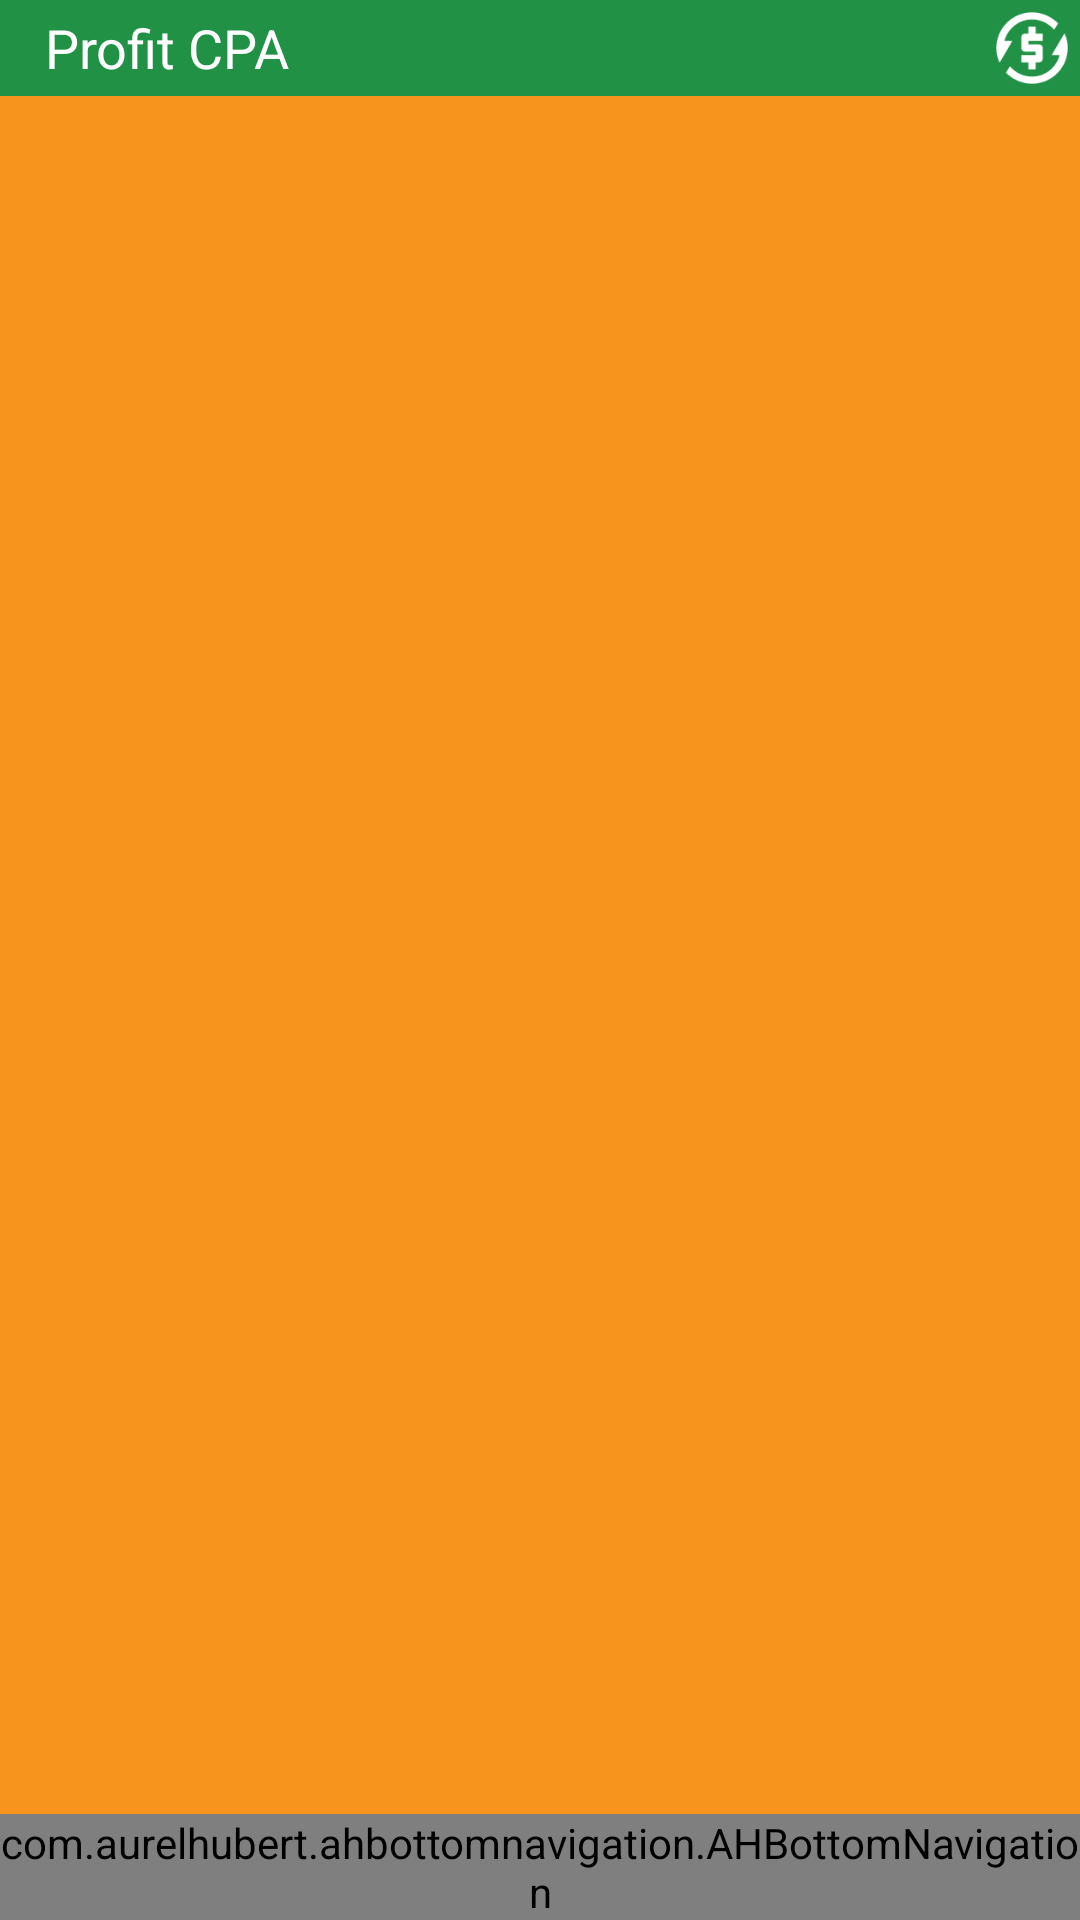

Named icons in this screenshot (1080×1920) and their centers, (x,y):
mycreditwhite: (1032,48)
